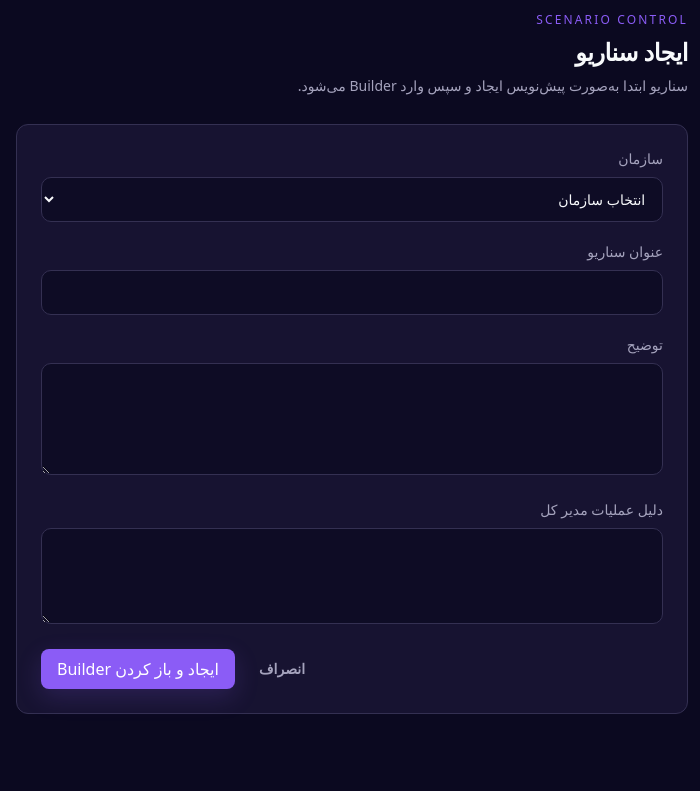
it: renders Laravel validation fields in Persian and keeps the request key for retry
Select "سازمان تست" in the dropdown at (352, 200), box [41,177,663,222]
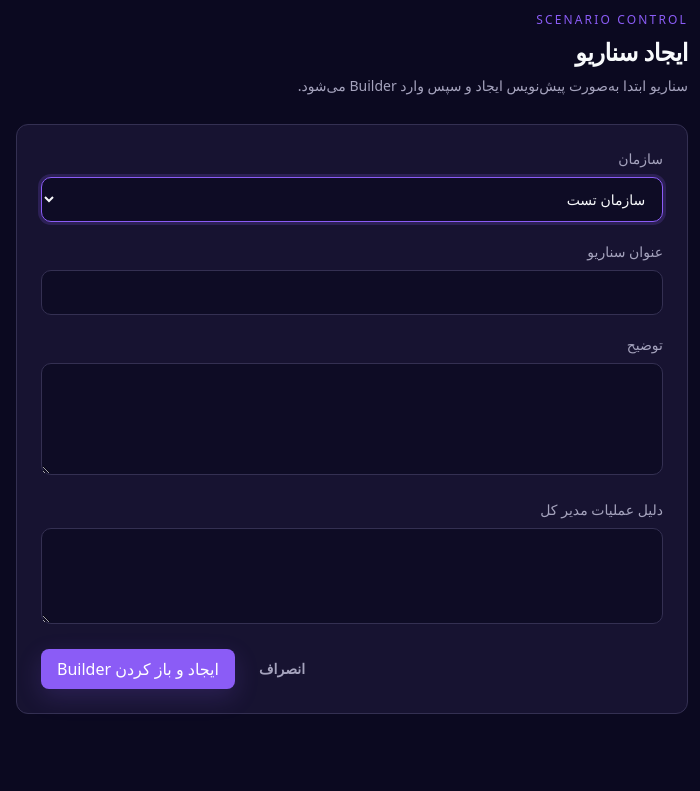
Type "سناریو" into the field labelled "عنوان سناریو".
click(352, 293); type("سناریو")  # box [41,270,663,315]
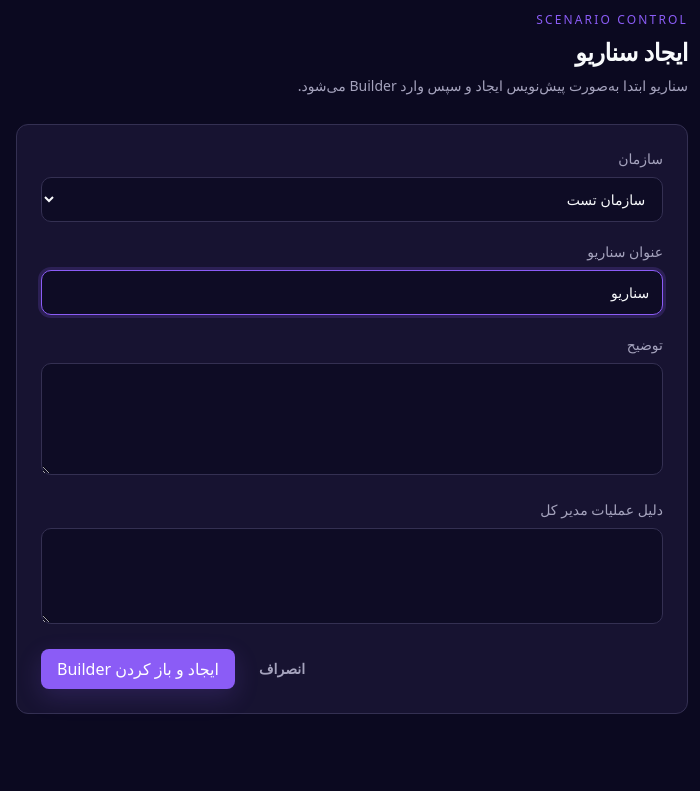
Submit the form "ایجاد و باز کردن Builder"
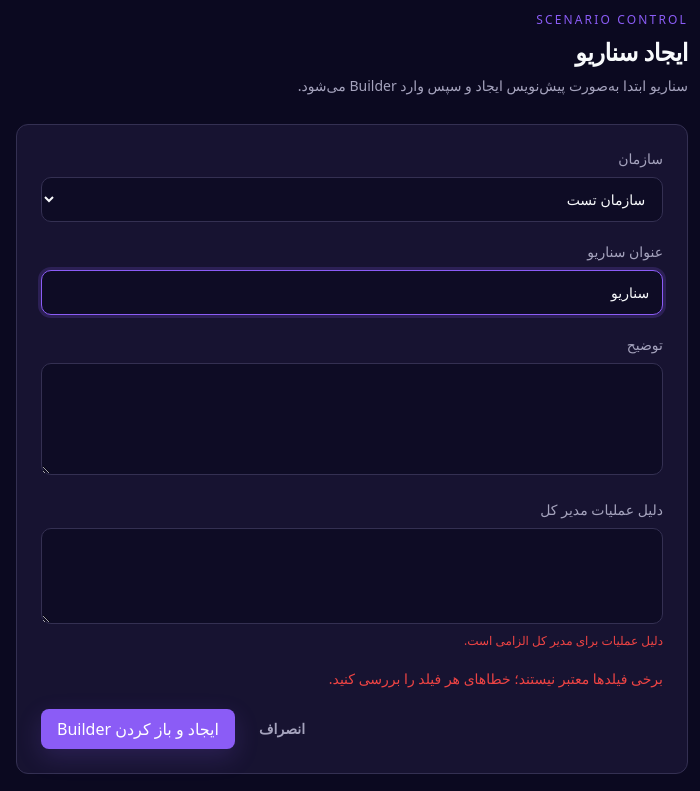
expect the text "دلیل عملیات برای مدیر کل الزامی است." is shown: met, box [464,632,663,649]
